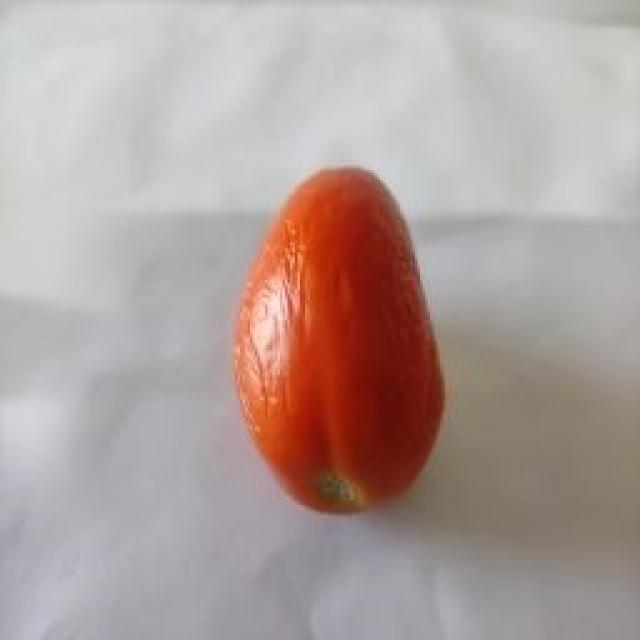overripe: (231, 159, 448, 516)
